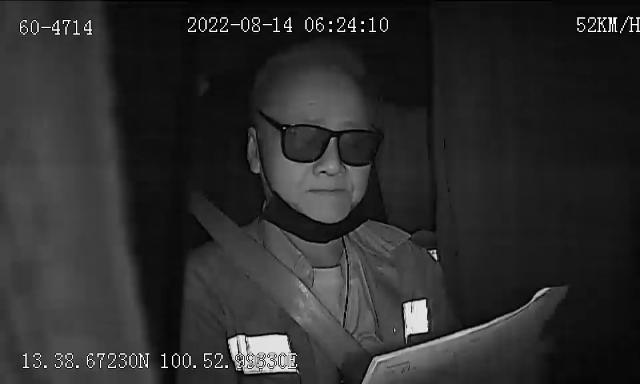Seatbelt: (182, 188, 382, 384)
